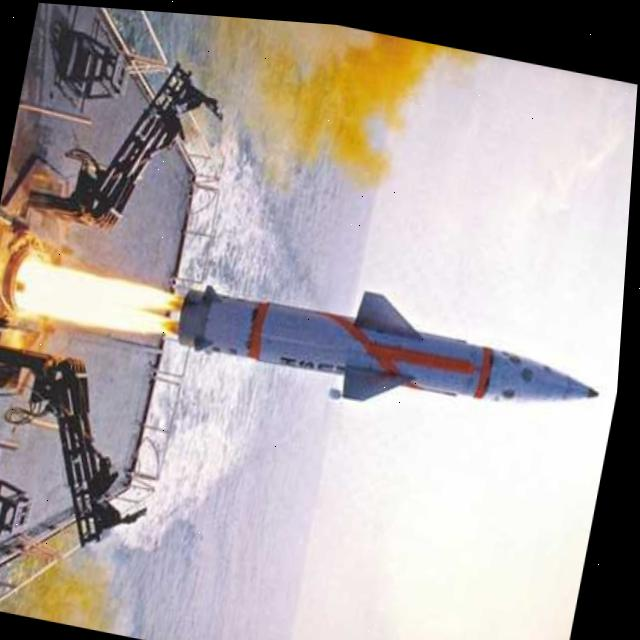missile: (164, 244, 621, 473)
